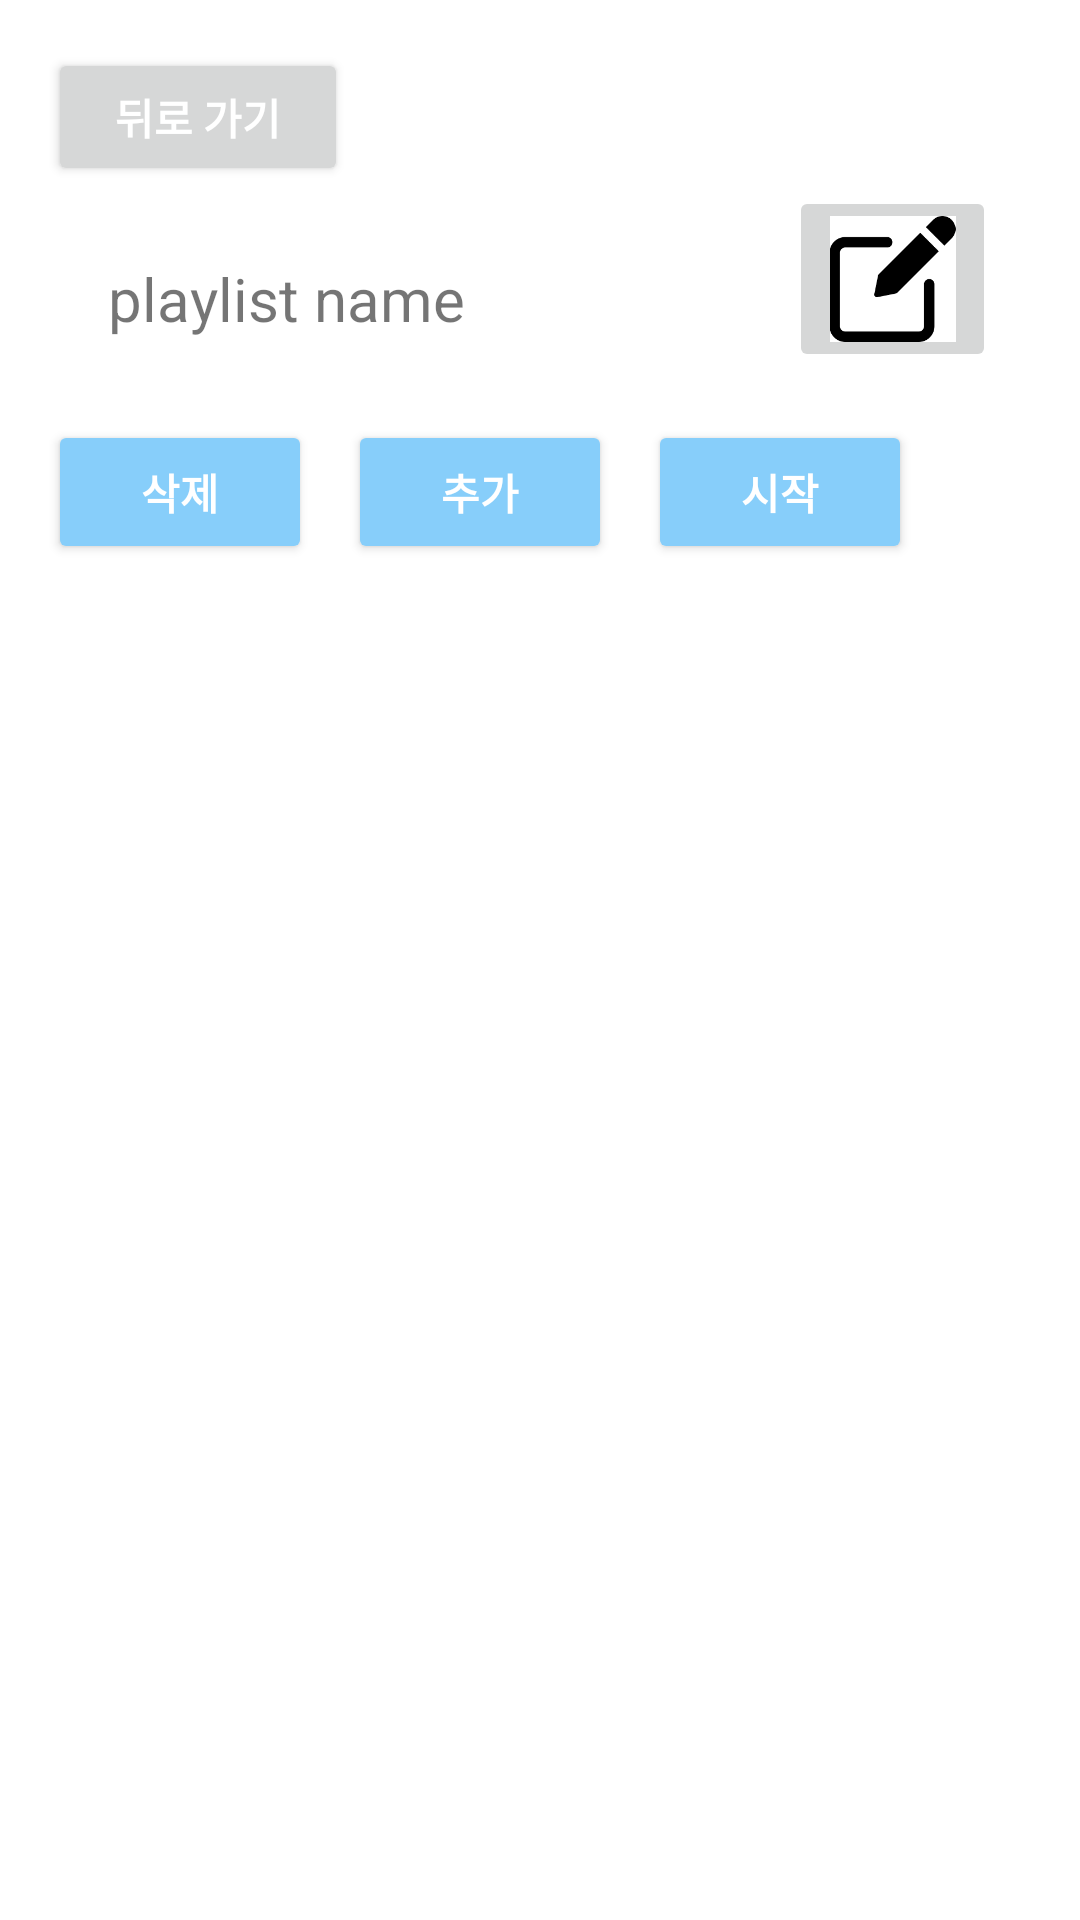

Screen size 1080 × 1920. Icon name, then its box in pixels as bbox=(x1, y1, x2, y2):
edit: bbox=(801, 204, 984, 354)
